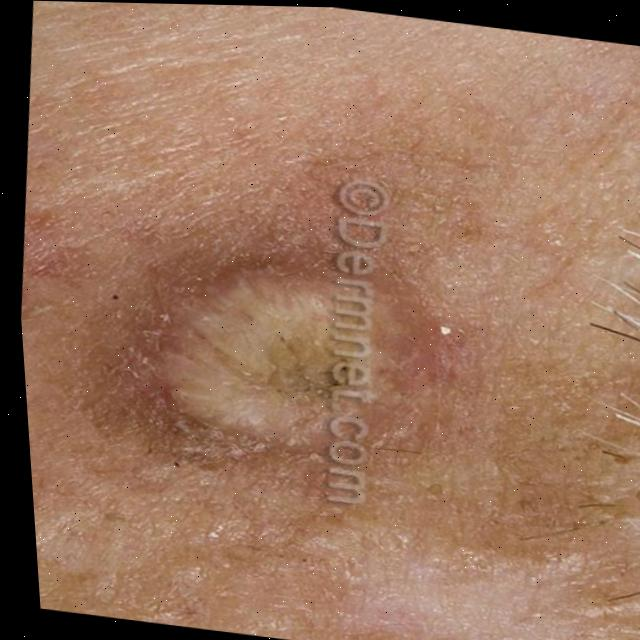Eczema: (85, 218, 433, 492)
